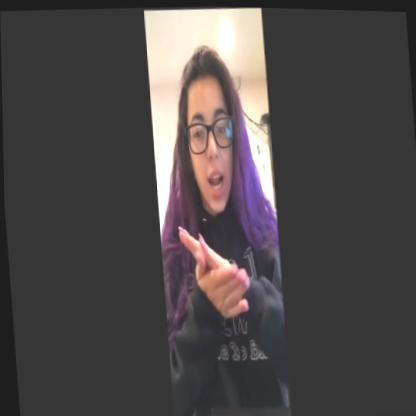NiceToMeetYou: (171, 203, 261, 339)
